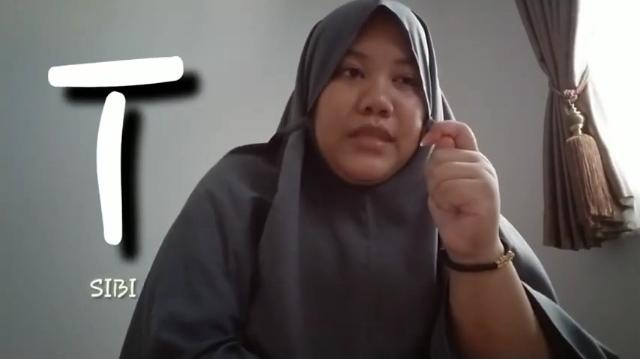T: (420, 118, 500, 254)
